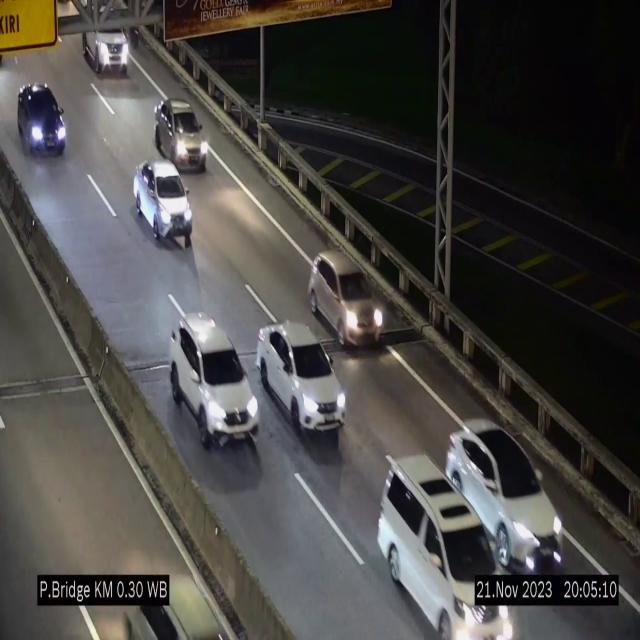Car: (378, 458, 504, 640), (444, 419, 564, 574), (170, 314, 260, 446), (256, 322, 346, 434), (311, 246, 377, 358), (134, 160, 192, 247), (154, 99, 208, 172), (17, 85, 67, 156), (78, 7, 128, 77)
Motorcycle: (129, 13, 140, 52)
